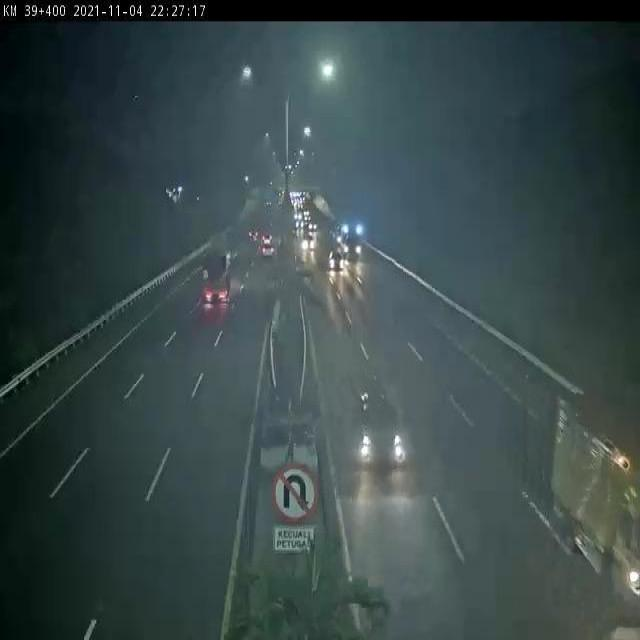car: (346, 372, 406, 469), (260, 240, 276, 259)
truck-m-: (201, 248, 231, 303)
